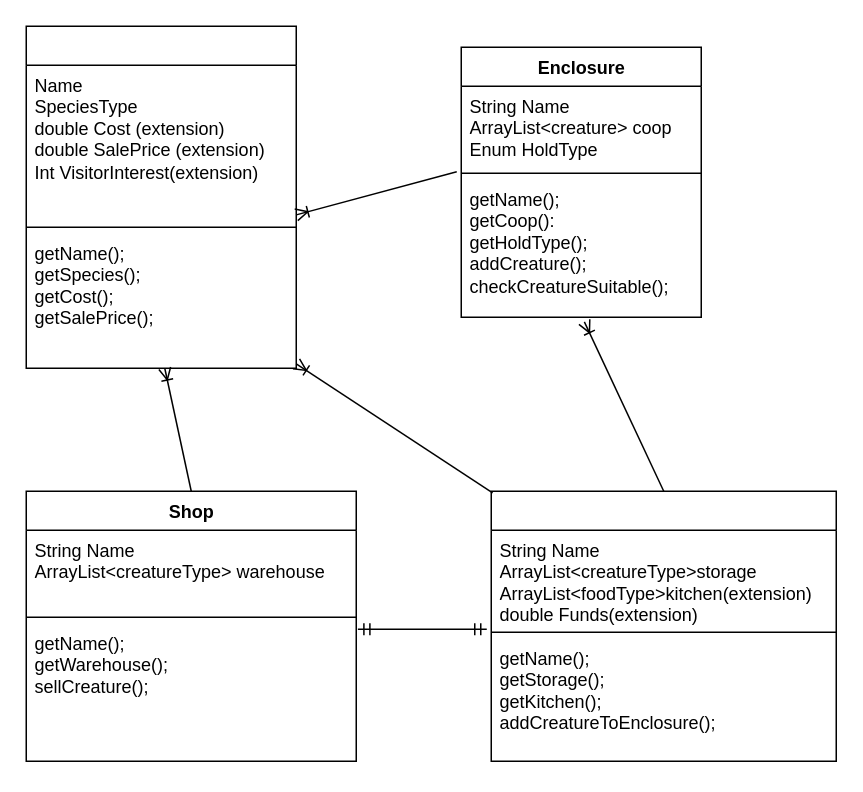
This 863x792 diagram has some shape labels left out. Each missing label, with the box of its shape:
Creature: (25, 25, 296, 368)
User: (490, 490, 836, 761)
